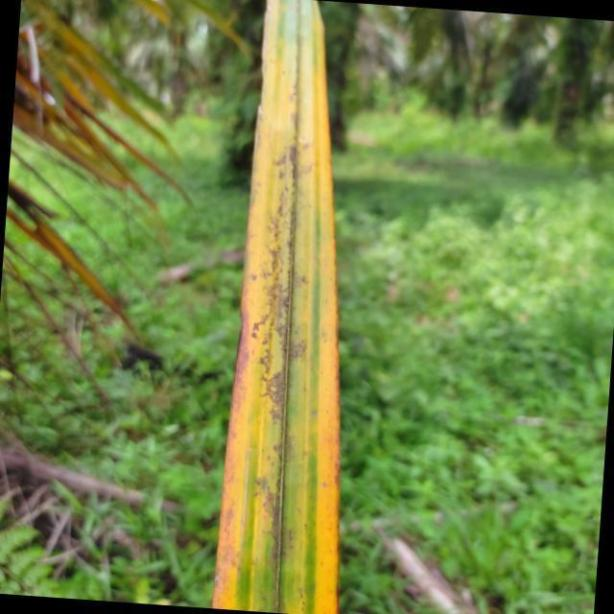Megnesium: (211, 0, 344, 614)
